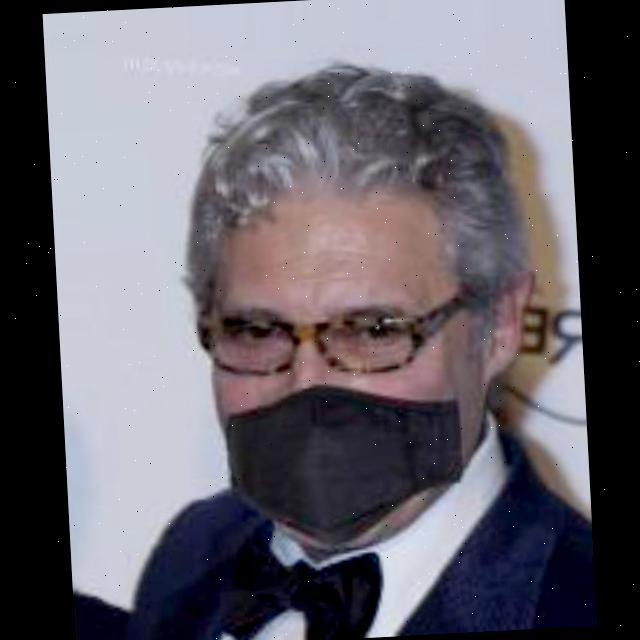suspicion: (132, 120, 492, 536)
